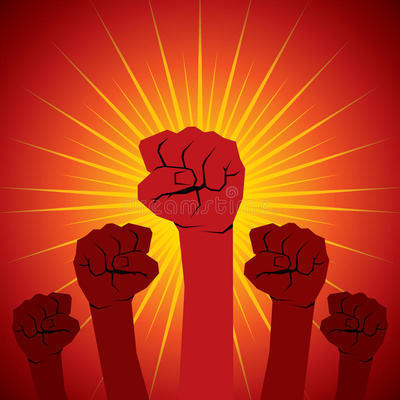closedhandfront: (121, 109, 245, 234), (63, 217, 166, 311), (249, 210, 331, 317), (321, 278, 400, 360), (9, 283, 90, 362)
